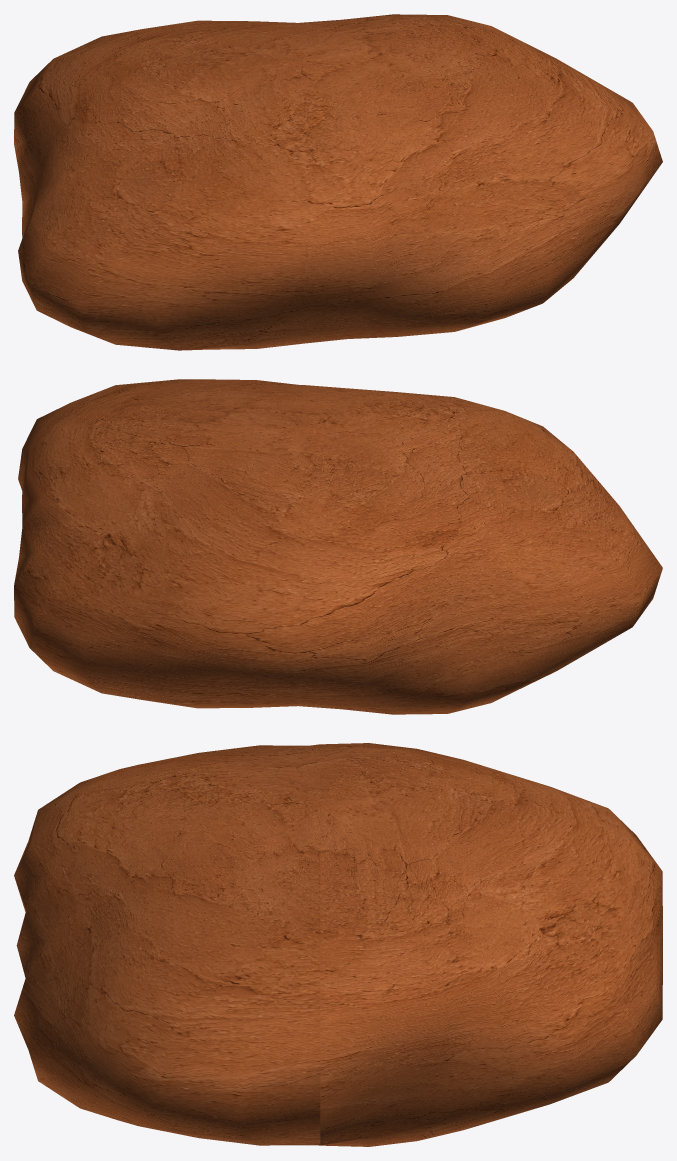
The model's file is guti_clay_shard.glb.
3 renders of one model, top to bottom at view 1: azimuth 30°, elevation 25°; view 2: azimuth 150°, elevation 25°; view 3: azimuth 270°, elevation 25°, orthographic. The views are drawn at different scales.
Visible parts, largest first — view 1: guti_clay_shard; view 2: guti_clay_shard; view 3: guti_clay_shard.
Boxes of the visible parts, x1,y1,x2,y2 form: guti_clay_shard: (14,14,662,350); guti_clay_shard: (14,379,662,714); guti_clay_shard: (14,743,662,1146).
Size of the model in its own units: 0.025 by 0.008 by 0.02.
1 material, 1 textured.
